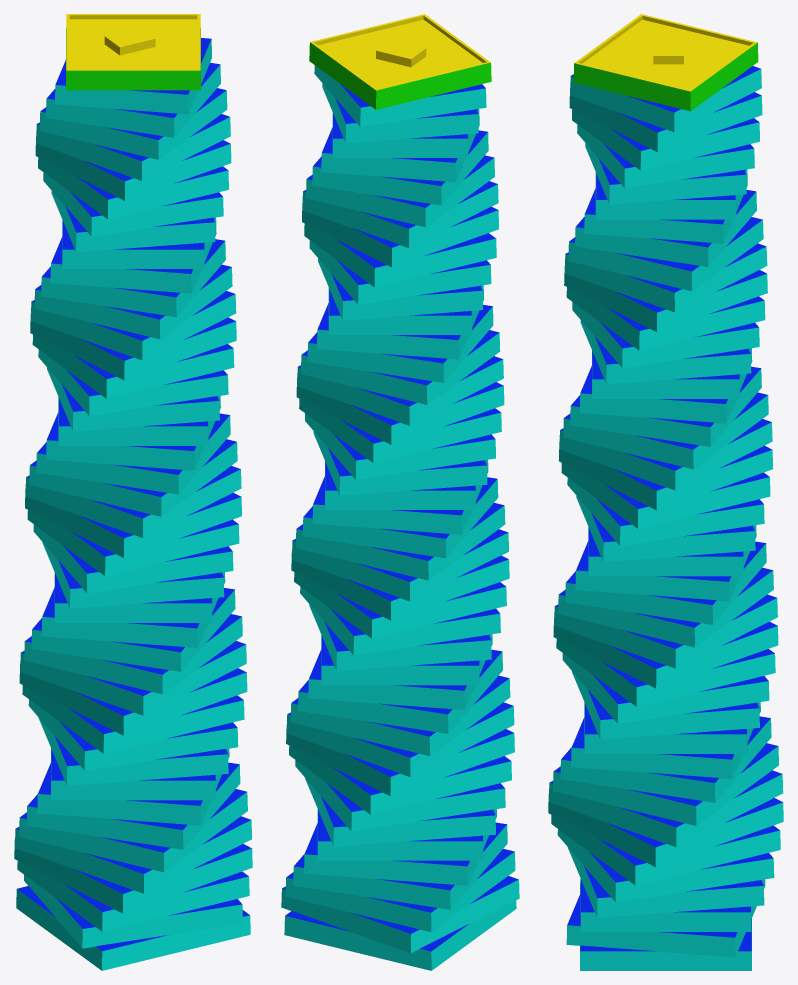
The model's file is Building.7.fbx.
The picture shows the model from 3 angles, left to right: view 1: azimuth 30°, elevation 25°; view 2: azimuth 150°, elevation 25°; view 3: azimuth 270°, elevation 25°; orthographic projection.
Parts seen in each view (by area): view 1: Building_7; view 2: Building_7; view 3: Building_7.
Boxes of the visible parts, left/top/right/bottom form: Building_7: left=14, top=14, right=252, bottom=970; Building_7: left=281, top=14, right=519, bottom=970; Building_7: left=548, top=14, right=783, bottom=970.
Bounding box in the file's own units: 2995 × 12427 × 2995.
